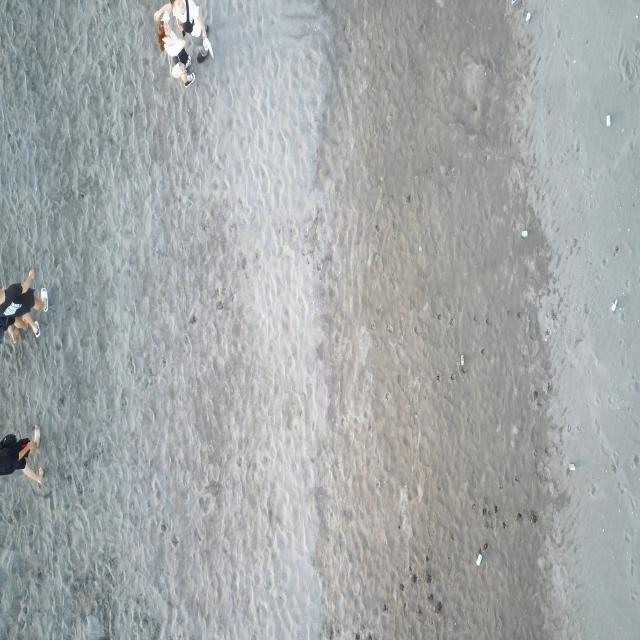tin-and-aluminum-cans: (610, 298, 619, 314), (475, 552, 483, 568), (604, 113, 612, 128), (525, 8, 532, 24), (520, 228, 530, 239), (568, 461, 577, 472), (460, 352, 465, 369)
